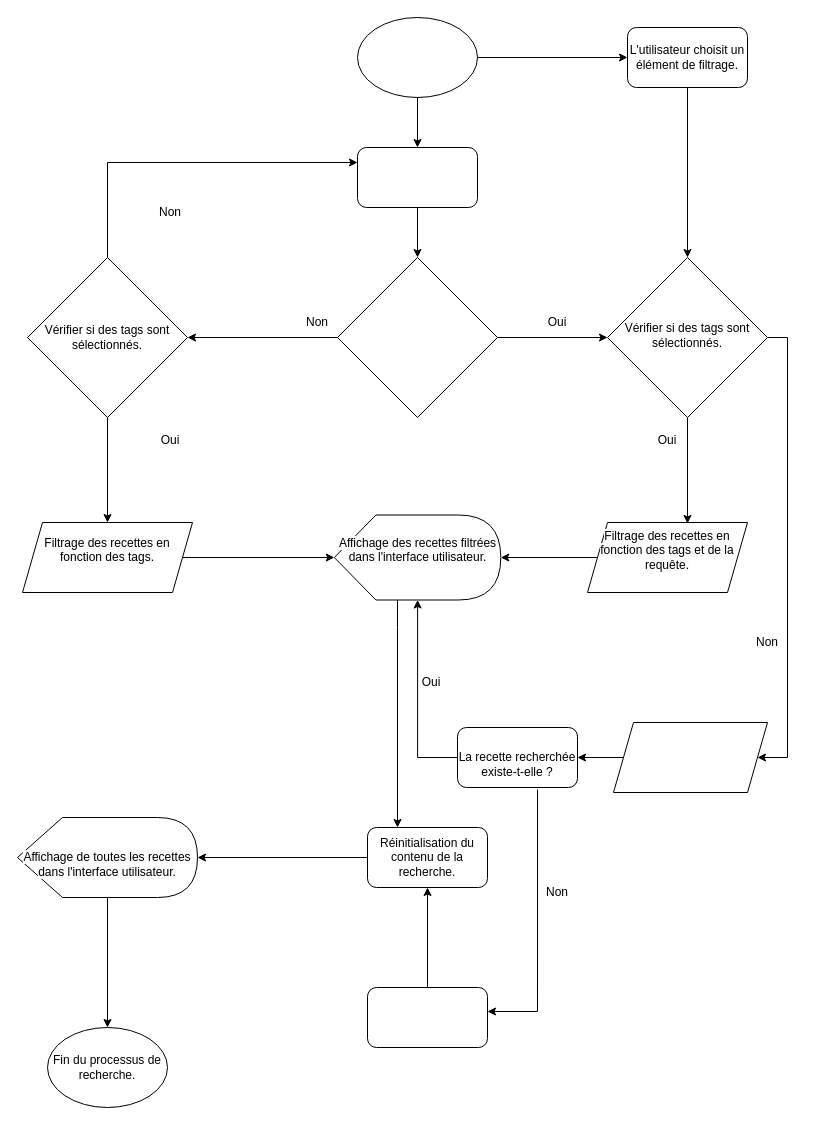
Image size: 815x1125. Some labels were removed from this diagram. The box of each missing label's shape, as (x1, y1, x2, y2) in pixels:
Affichage du message d'erreur.: (366, 986, 488, 1048)
Début du processus de recherche.: (356, 16, 478, 98)
Filtrage des recettes en fonction de la requête.: (612, 722, 768, 792)
L'utilisateur saisit une requête de recherche.: (356, 146, 478, 208)
Vérifier si la longueur de la requête est supérieure à 2 caractères.: (336, 256, 498, 418)
